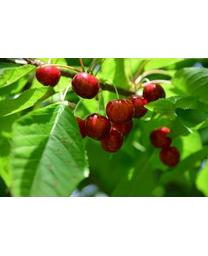cherry: (105, 98, 134, 125), (71, 72, 99, 99), (83, 112, 111, 139), (34, 64, 61, 87), (100, 128, 123, 152), (143, 82, 165, 105), (149, 127, 172, 149), (160, 145, 180, 167)
